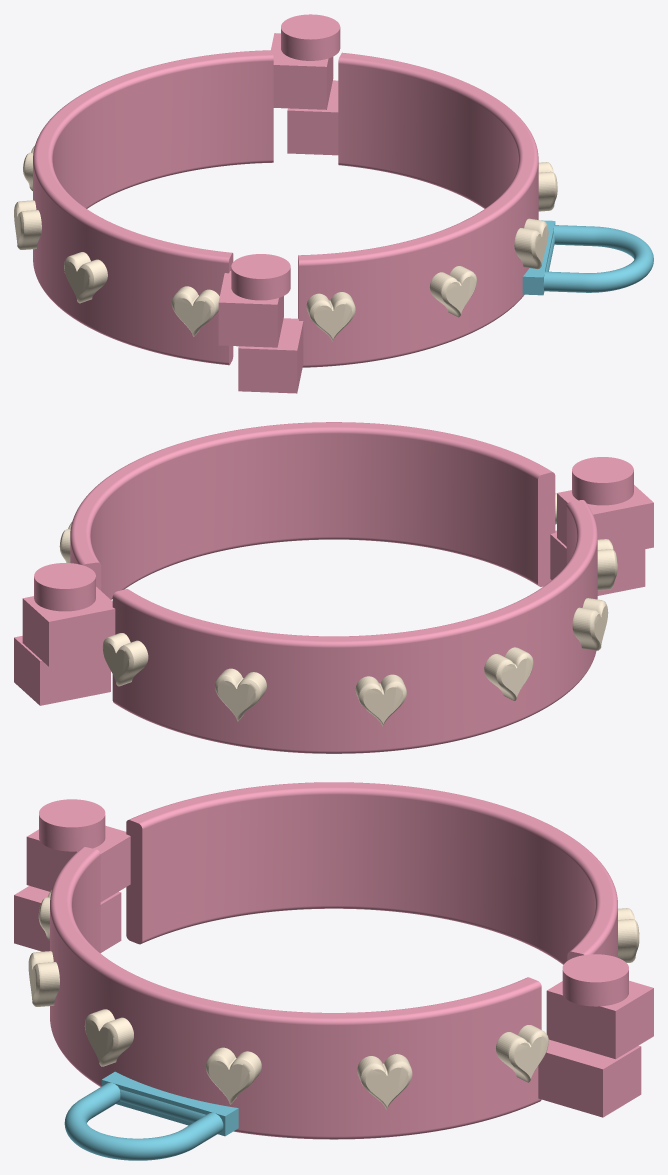
File: candy-hearts-collar.glb
3 renders of one model, top to bottom at view 1: azimuth 30°, elevation 25°; view 2: azimuth 150°, elevation 25°; view 3: azimuth 270°, elevation 25°, orthographic. The views are drawn at different scales.
Visible parts, largest first — view 1: display-part-002, display-part-001, display-part-003, display-part-017, display-part-016, display-part-004, display-part-005, display-part-015, display-part-014, display-part-006, display-part-013, display-part-007; view 2: display-part-001, display-part-002, display-part-017, display-part-016, display-part-012, display-part-011, display-part-013, display-part-010, display-part-014, display-part-015; view 3: display-part-002, display-part-001, display-part-003, display-part-017, display-part-016, display-part-008, display-part-007, display-part-009, display-part-006, display-part-005, display-part-011.
Boxes of the visible parts, x1=… form: display-part-002: x1=33, y1=33, x2=333, y2=365; display-part-001: x1=238, y1=52, x2=538, y2=393; display-part-003: x1=522, y1=220, x2=653, y2=295; display-part-017: x1=281, y1=14, x2=340, y2=60; display-part-016: x1=231, y1=254, x2=290, y2=300; display-part-004: x1=306, y1=292, x2=355, y2=341; display-part-005: x1=429, y1=266, x2=476, y2=317; display-part-015: x1=171, y1=286, x2=219, y2=336; display-part-014: x1=64, y1=252, x2=107, y2=303; display-part-006: x1=514, y1=218, x2=548, y2=269; display-part-013: x1=14, y1=200, x2=41, y2=249; display-part-007: x1=538, y1=162, x2=557, y2=211; display-part-001: x1=14, y1=422, x2=645, y2=705; display-part-002: x1=22, y1=485, x2=653, y2=753; display-part-017: x1=34, y1=563, x2=95, y2=611; display-part-016: x1=572, y1=457, x2=633, y2=505; display-part-012: x1=355, y1=674, x2=406, y2=726; display-part-011: x1=215, y1=668, x2=266, y2=721; display-part-013: x1=484, y1=647, x2=533, y2=700; display-part-010: x1=102, y1=633, x2=148, y2=686; display-part-014: x1=572, y1=598, x2=608, y2=650; display-part-015: x1=597, y1=539, x2=617, y2=590; display-part-002: x1=26, y1=782, x2=653, y2=1059; display-part-001: x1=14, y1=847, x2=641, y2=1139; display-part-003: x1=64, y1=1071, x2=238, y2=1160; display-part-017: x1=562, y1=954, x2=628, y2=1006; display-part-016: x1=39, y1=799, x2=105, y2=851; display-part-008: x1=357, y1=1054, x2=412, y2=1109; display-part-007: x1=205, y1=1047, x2=261, y2=1104; display-part-009: x1=496, y1=1025, x2=548, y2=1082; display-part-006: x1=84, y1=1009, x2=133, y2=1066; display-part-005: x1=28, y1=951, x2=59, y2=1006; display-part-011: x1=618, y1=908, x2=639, y2=962.
Size of the model in its own units: 3 by 0.6551 by 2.91.
